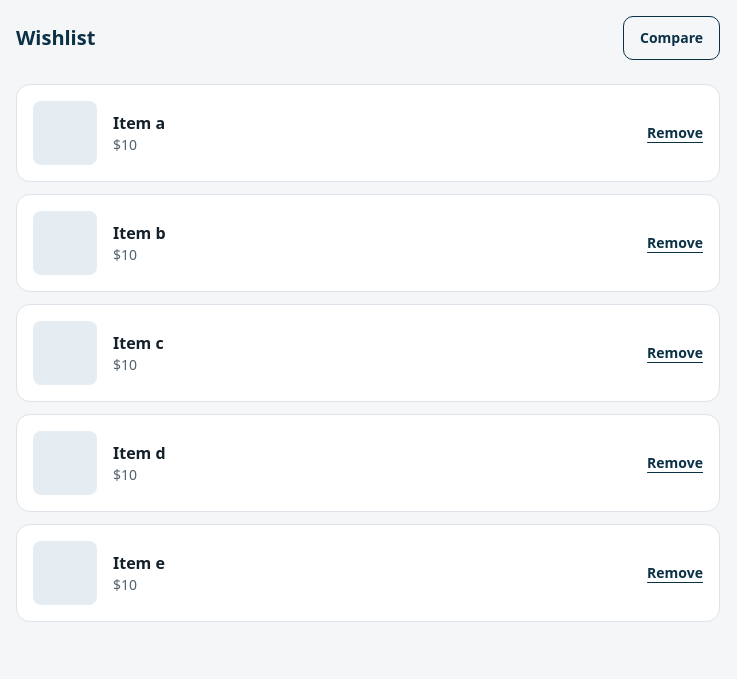
Scenario: wishlist: compare › CRITICAL: no more than four can be picked (the rest are switched off until one is un-picked)
Check: the text "Item a" is shown, box [113,112,165,134]
Click the button "Compare" at (672, 38), box [623,16,720,60]
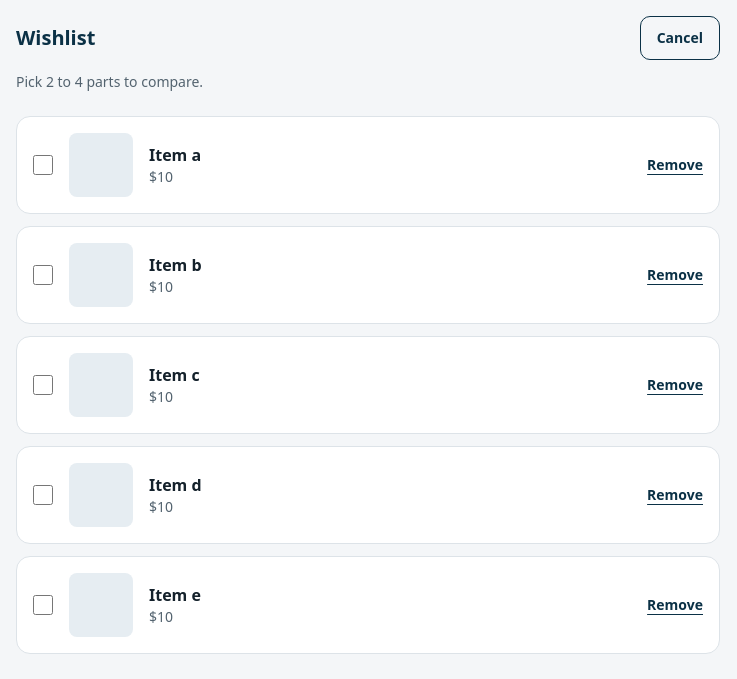
Click the checkbox named "Item a" at (43, 165), box [33,155,53,175]
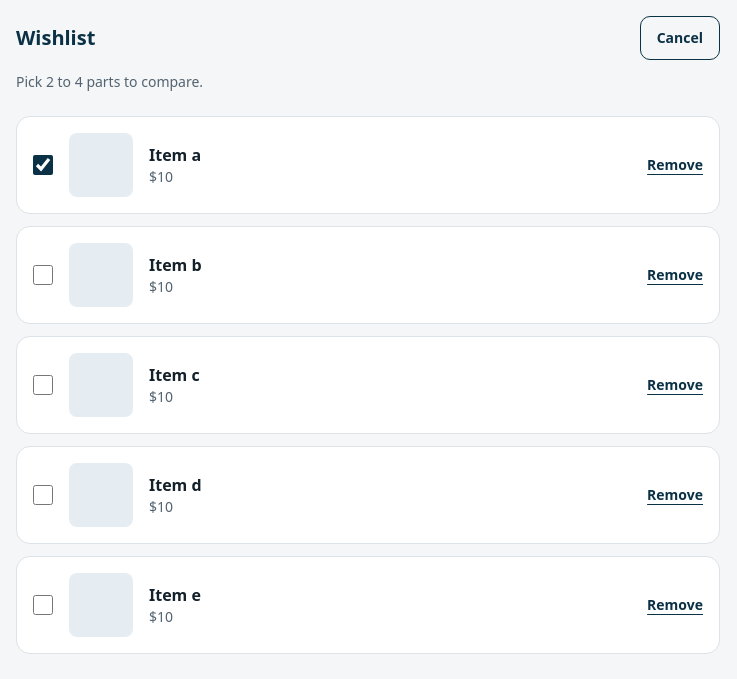
Click the checkbox named "Item b" at (43, 275), box [33,265,53,285]
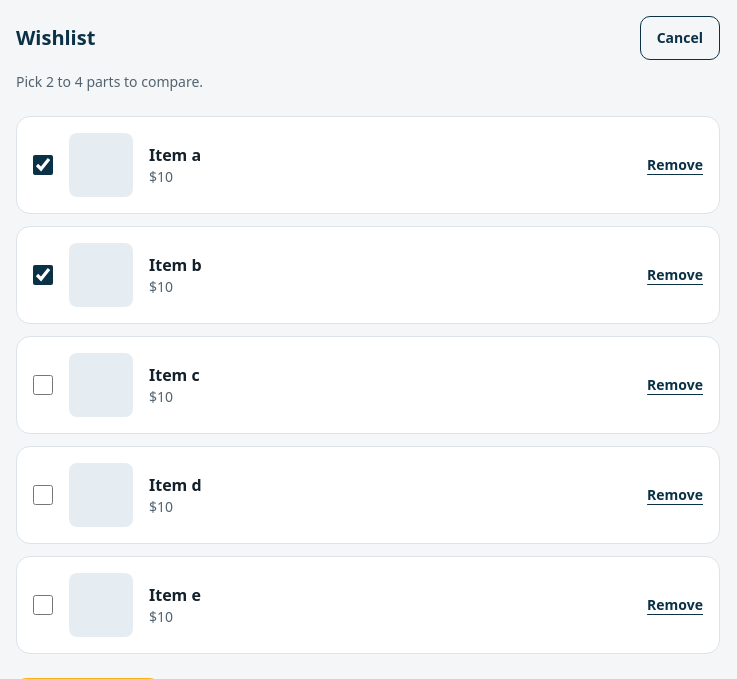
Click the checkbox named "Item c" at (43, 385), box [33,375,53,395]
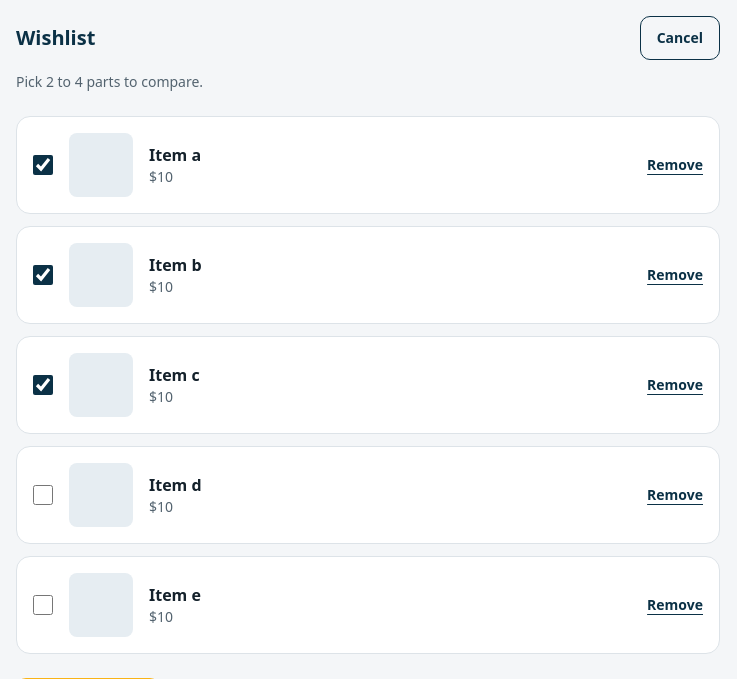
Click the checkbox named "Item d" at (43, 495), box [33,485,53,505]
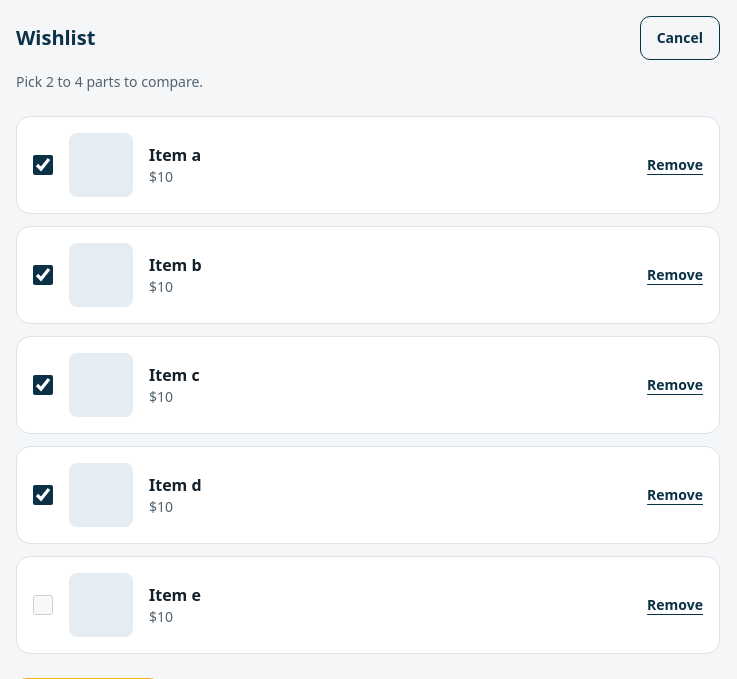
Check: the checkbox named "Item e" is disabled, box [33,595,53,615]
Click the checkbox named "Item a" at (43, 165), box [33,155,53,175]
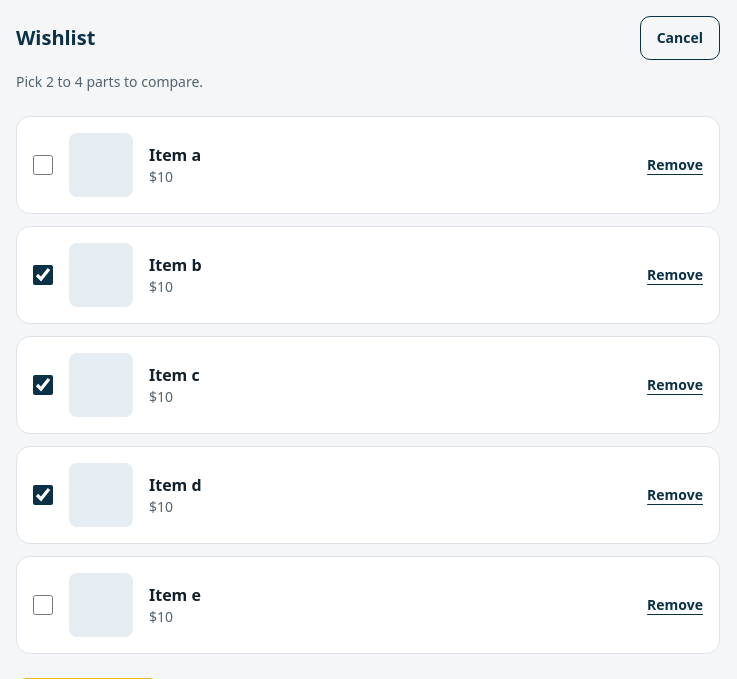
Check: the checkbox named "Item e" is enabled, box [33,595,53,615]
